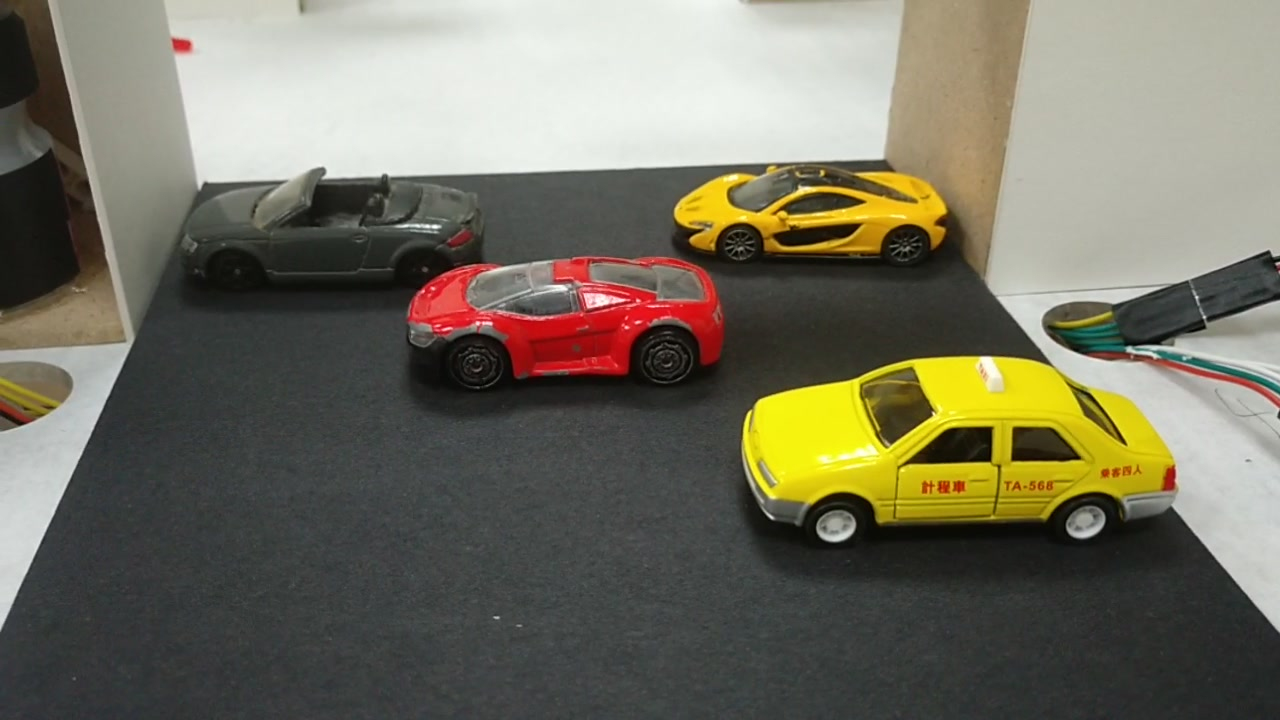car: (752, 374, 1175, 526), (411, 261, 726, 382), (183, 184, 479, 280), (674, 166, 948, 260)
